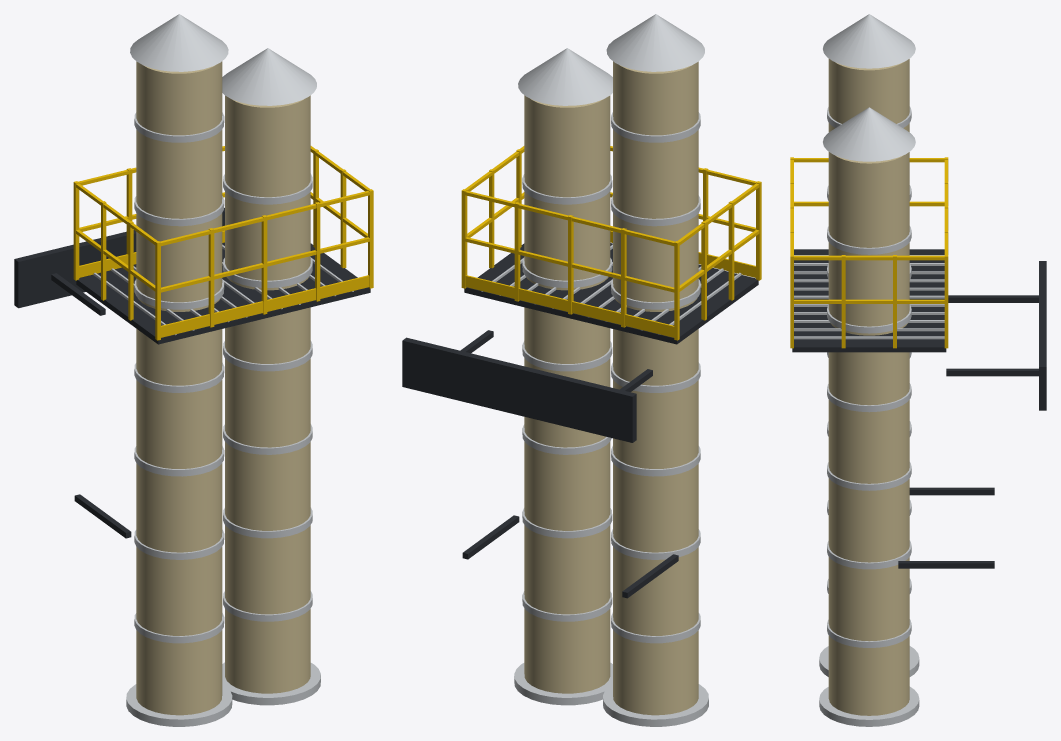
Rendered from chimney.glb.
3 views of the same model, side by side, from view 1: azimuth 30°, elevation 25°; view 2: azimuth 150°, elevation 25°; view 3: azimuth 270°, elevation 25° (orthographic). The views are drawn at different scales.
Parts seen in each view (by area): view 1: Asset; view 2: Asset; view 3: Asset.
Boxes of the visible parts, x1=… form: Asset: x1=14, y1=14, x2=373, y2=726; Asset: x1=402, y1=14, x2=761, y2=726; Asset: x1=790, y1=14, x2=1046, y2=726.
Bounding box in the file's own units: 2.6 × 7.45 × 2.66.
